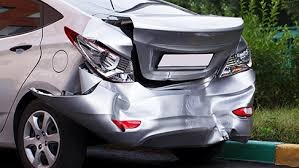Smashed: (32, 13, 255, 143)
